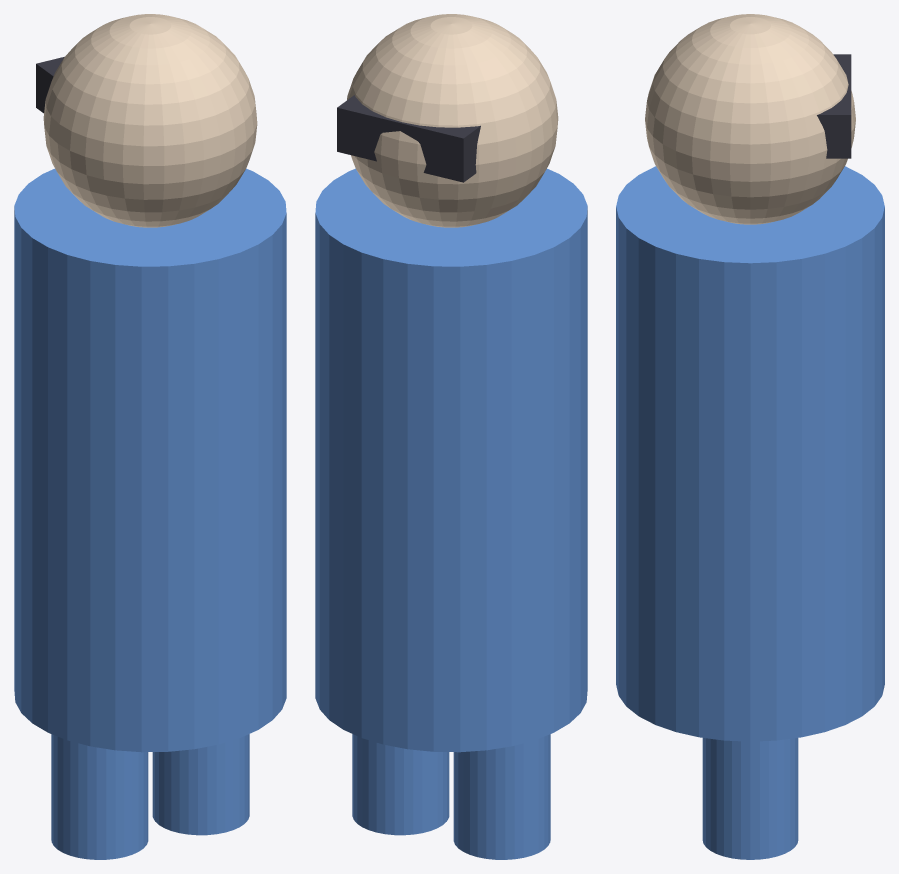
The model's file is character.fbx.
The picture shows the model from 3 angles, left to right: view 1: azimuth 30°, elevation 25°; view 2: azimuth 150°, elevation 25°; view 3: azimuth 270°, elevation 25°; orthographic projection.
Parts seen in each view (by area): view 1: Cylinder, Sphere, Cylinder.001, Cylinder.002, Cube; view 2: Cylinder, Sphere, Cylinder.001, Cylinder.002, Cube; view 3: Cylinder, Sphere, Cylinder.002, Cube.
Part boxes in pixels (x1=…): Cylinder: x1=14, y1=168, x2=286, y2=752; Sphere: x1=43, y1=14, x2=257, y2=227; Cylinder.001: x1=51, y1=734, x2=148, y2=859; Cylinder.002: x1=152, y1=734, x2=249, y2=835; Cube: x1=36, y1=56, x2=64, y2=113; Cylinder: x1=315, y1=168, x2=587, y2=752; Sphere: x1=347, y1=14, x2=558, y2=227; Cylinder.001: x1=453, y1=734, x2=550, y2=859; Cylinder.002: x1=352, y1=734, x2=449, y2=835; Cube: x1=337, y1=95, x2=480, y2=182; Cylinder: x1=616, y1=166, x2=884, y2=741; Sphere: x1=645, y1=14, x2=855, y2=224; Cylinder.002: x1=702, y1=738, x2=798, y2=859; Cube: x1=817, y1=54, x2=851, y2=158.
Size of the model in its own units: 56 by 182 by 56.
